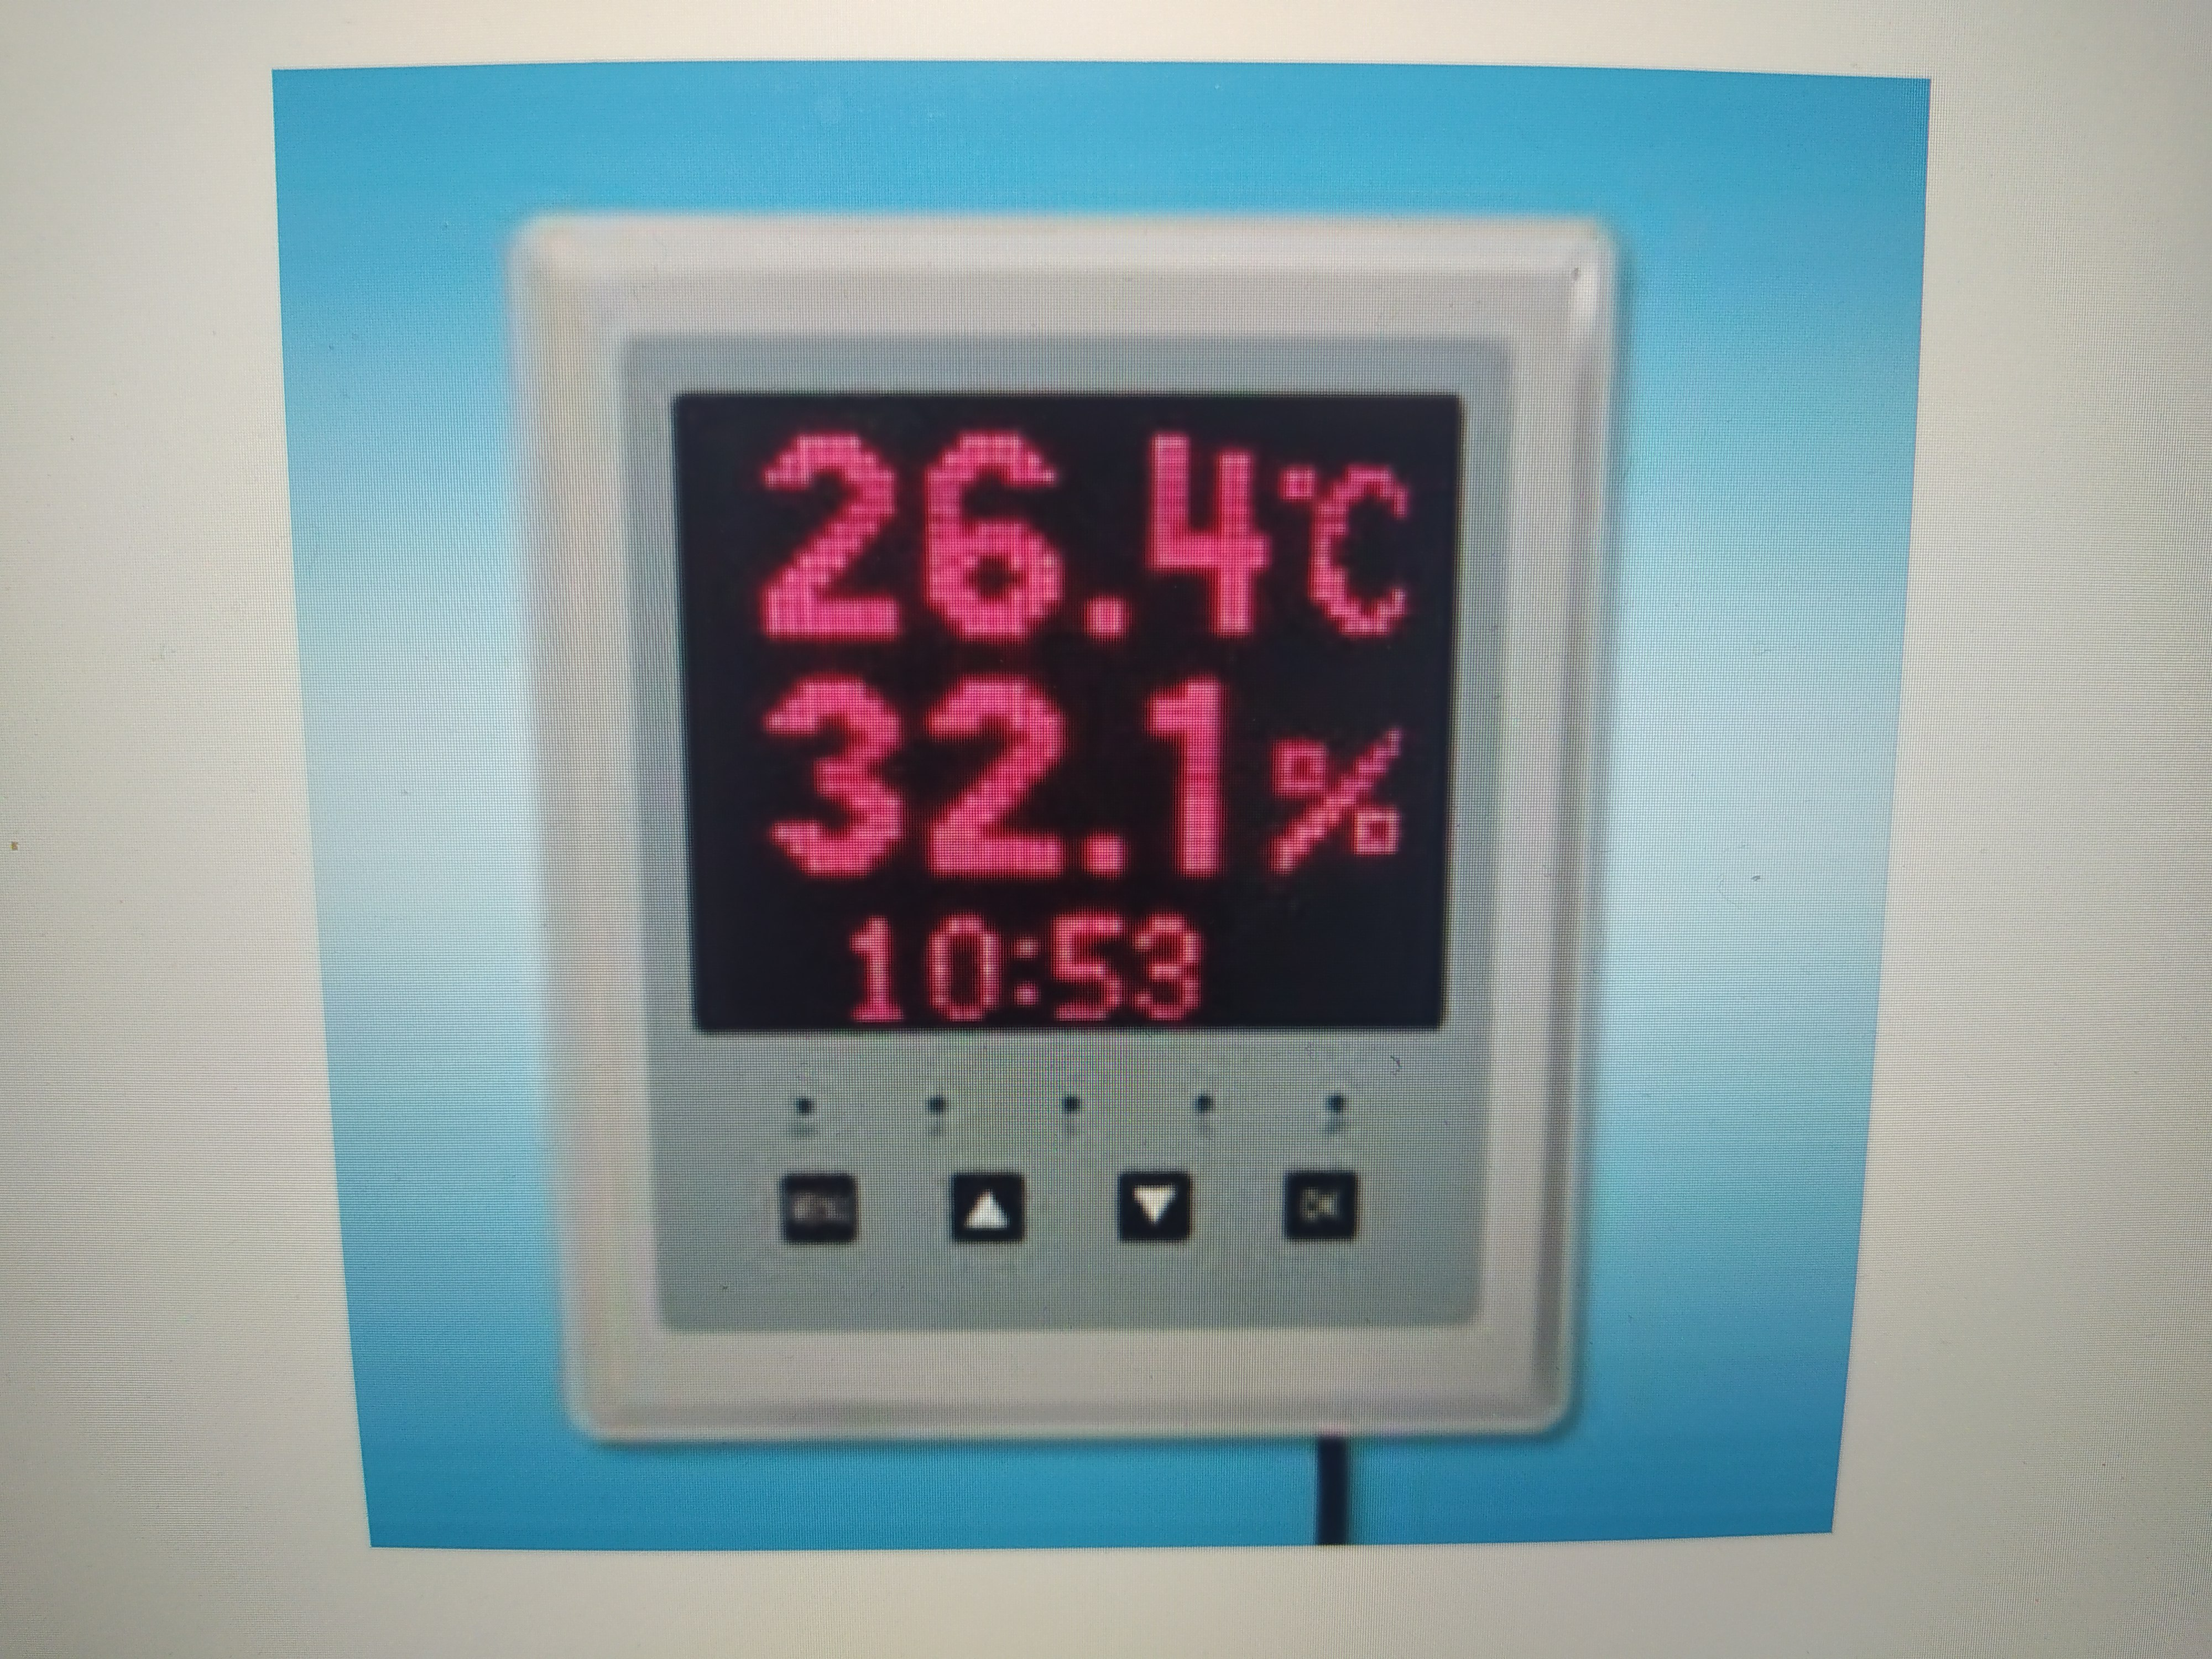.: (1071, 671, 1132, 884), (1080, 427, 1139, 645)
0: (913, 911, 1012, 1033)
1: (1134, 674, 1254, 882), (812, 911, 904, 1032)
2: (745, 427, 913, 643), (914, 669, 1071, 890)
3: (745, 671, 909, 890), (1130, 911, 1205, 1025)
4: (1141, 427, 1280, 650)
5: (1045, 913, 1127, 1028)
6: (906, 427, 1071, 655)
